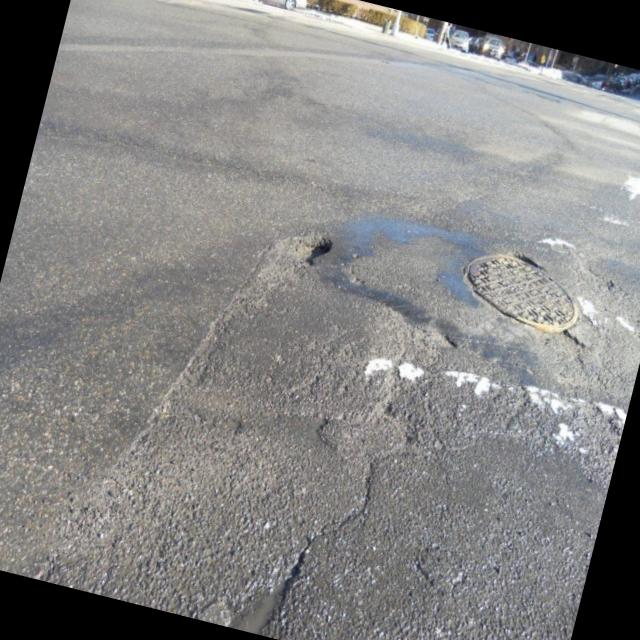Potholes: (271, 175, 616, 388)
